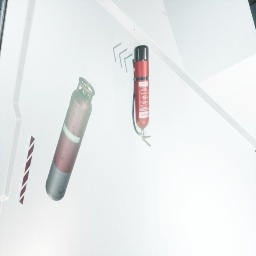FireExtinguisher ]: (132, 45, 151, 147)
NitrogenTank ,: (45, 77, 95, 201)
